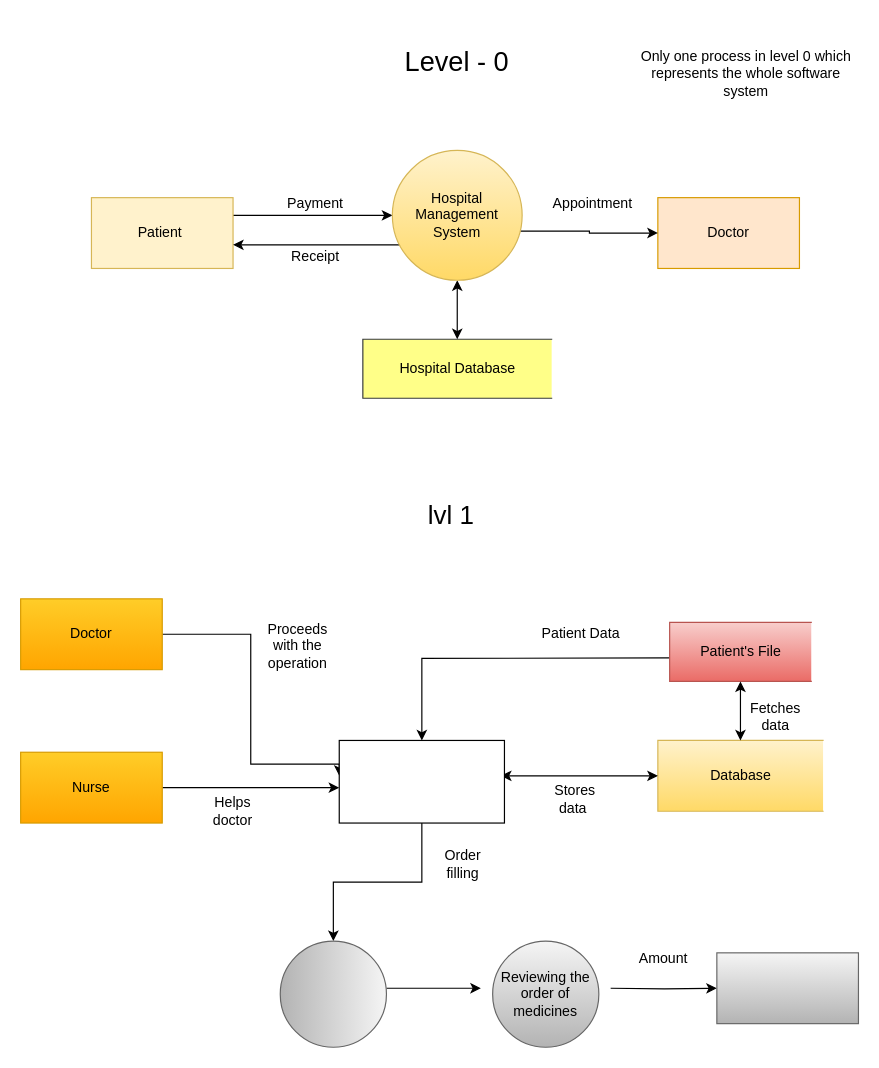
Some shapes in this 879 by 1068 pixel diagram are drawn without their labels. The shapes that lost their labels are listed below. From the top down, each one's box as (x1, y1, x2, y2) in pixels, then its label:
(338, 739, 504, 823): Admin
(279, 940, 386, 1047): Ordering Medicines
(716, 952, 858, 1024): Billing Department
